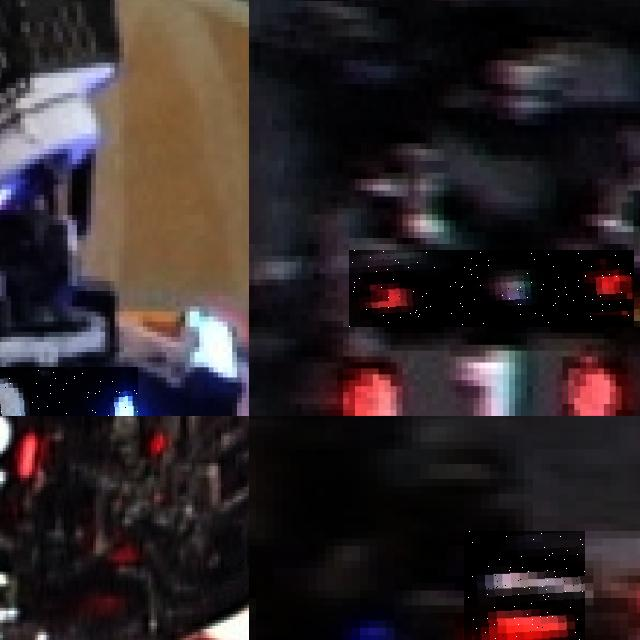R1: (325, 335, 627, 416), (349, 250, 634, 327), (464, 531, 585, 640)
R2: (0, 416, 37, 484)
